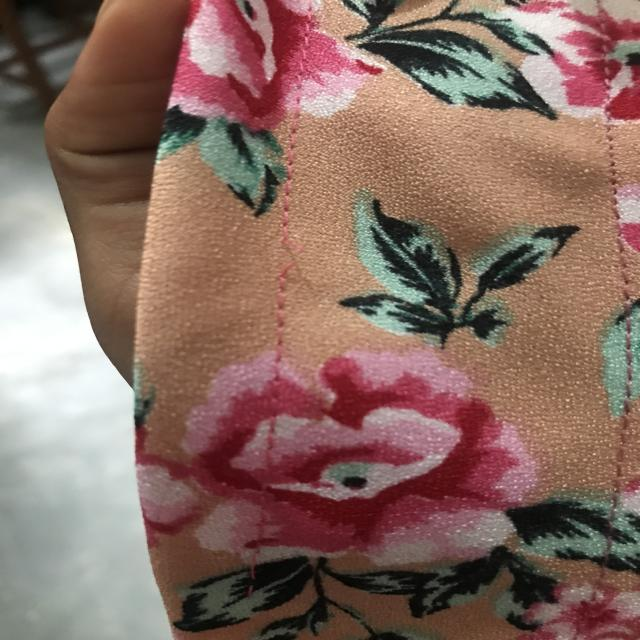broken: (260, 220, 316, 291)
good: (599, 152, 640, 283)
